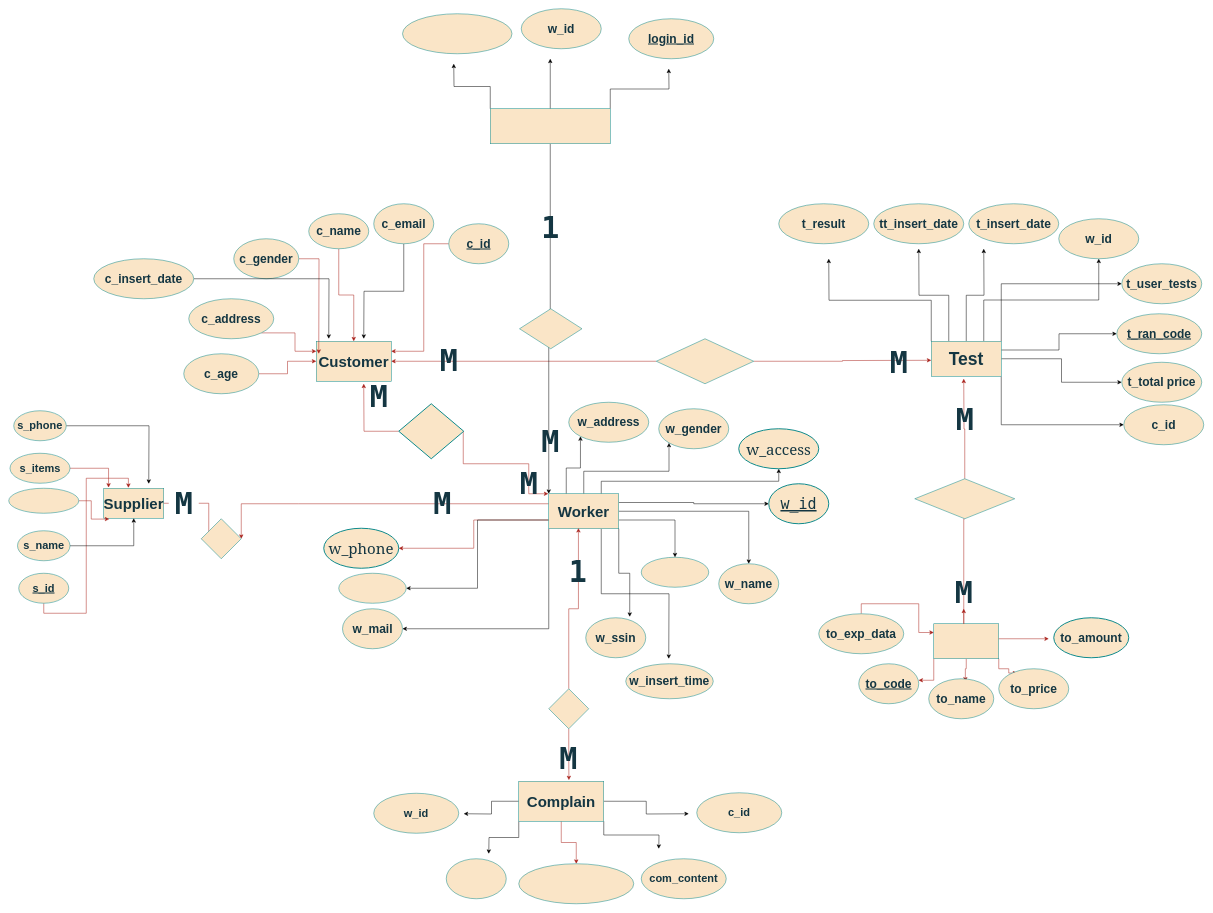
This 1213x913 diagram has some shape labels left out. Each missing label, with the box of its shape:
Ask: (201, 518, 241, 559)
com_id: (446, 858, 506, 899)
com_insert_date: (518, 863, 634, 904)
Insert: (548, 688, 589, 729)
login_record: (490, 108, 610, 144)
recorder: (519, 308, 582, 349)
Reserve: (656, 338, 754, 384)
s_total_buy: (8, 488, 79, 513)
Serve: (398, 403, 464, 459)
Tools: (933, 623, 999, 659)
Used in: (914, 478, 1015, 519)
w_login_time: (402, 13, 512, 54)
w_pass: (338, 573, 406, 603)
w_salary: (641, 557, 709, 587)
